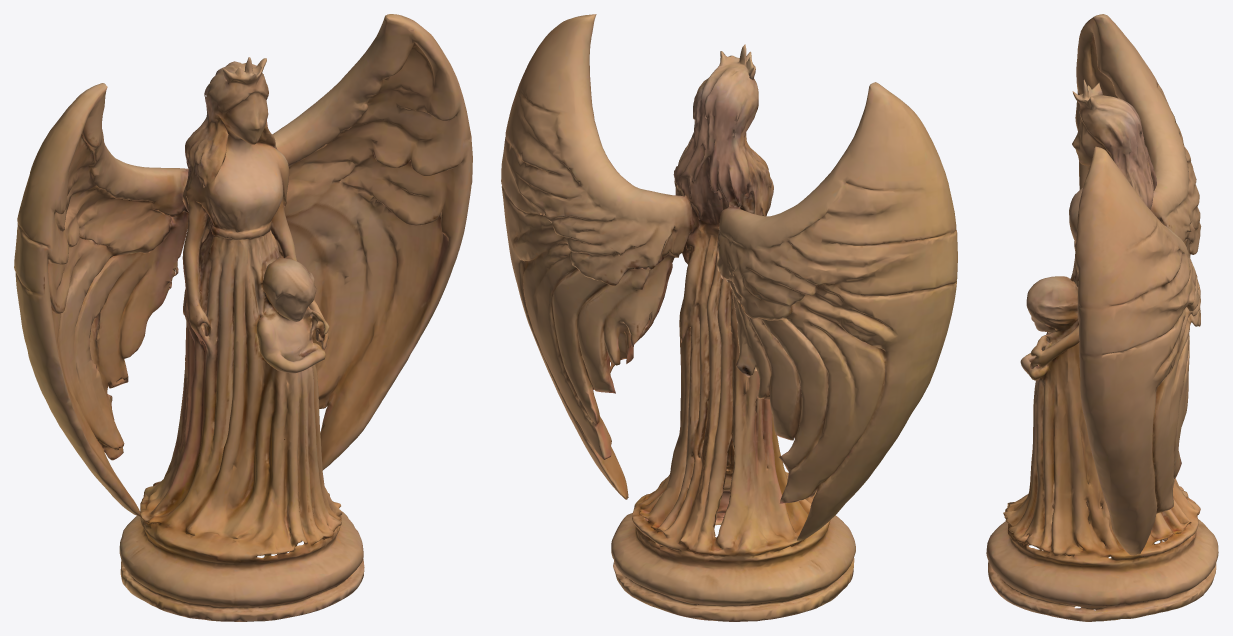
Rendered from COVENANT_QUEEN.glb.
3 renders of one model, left to right at view 1: azimuth 30°, elevation 25°; view 2: azimuth 150°, elevation 25°; view 3: azimuth 270°, elevation 25°, orthographic. The views are drawn at different scales.
Visible parts, largest first — view 1: Mesh1; view 2: Mesh1; view 3: Mesh1.
Part boxes in pixels (left/top/right/bottom): Mesh1: left=14, top=14, right=472, bottom=621; Mesh1: left=501, top=14, right=957, bottom=621; Mesh1: left=986, top=14, right=1218, bottom=621.
Bounding box in the file's own units: 1.79 × 2 × 0.8499.
1 material, 1 textured.
